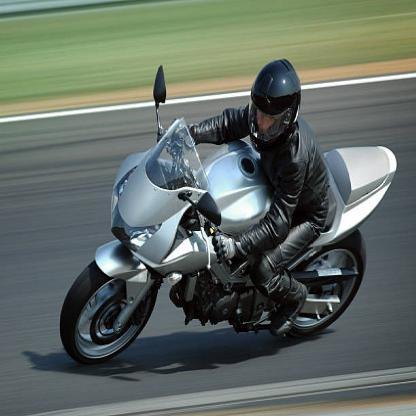Motorcycle: (54, 87, 396, 372)
